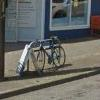Bicycle: (33, 34, 67, 71)
